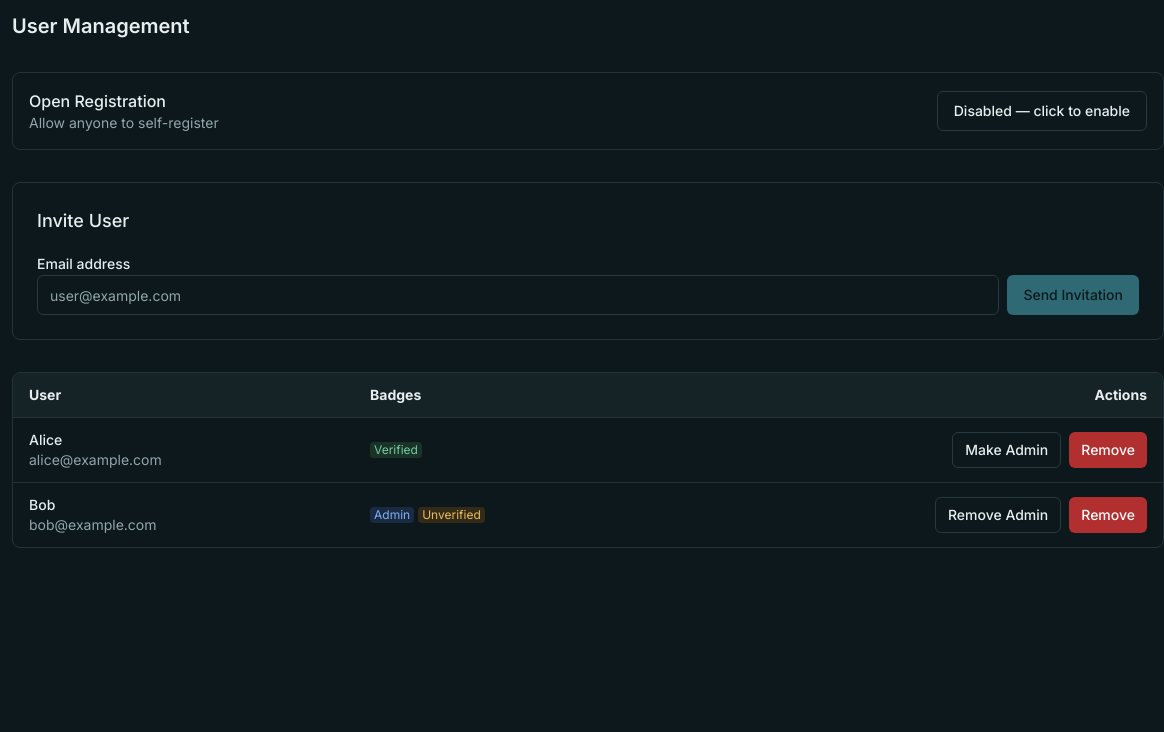
Test: UsersClient — invite user › sends an invitation and shows a success message
Expected: the text "Alice" is shown, x1=29 y1=431 x2=62 y2=448
Type "new@example.com" into the field labelled "Email address" at {"x": 518, "y": 295}, box x1=37 y1=275 x2=999 y2=315
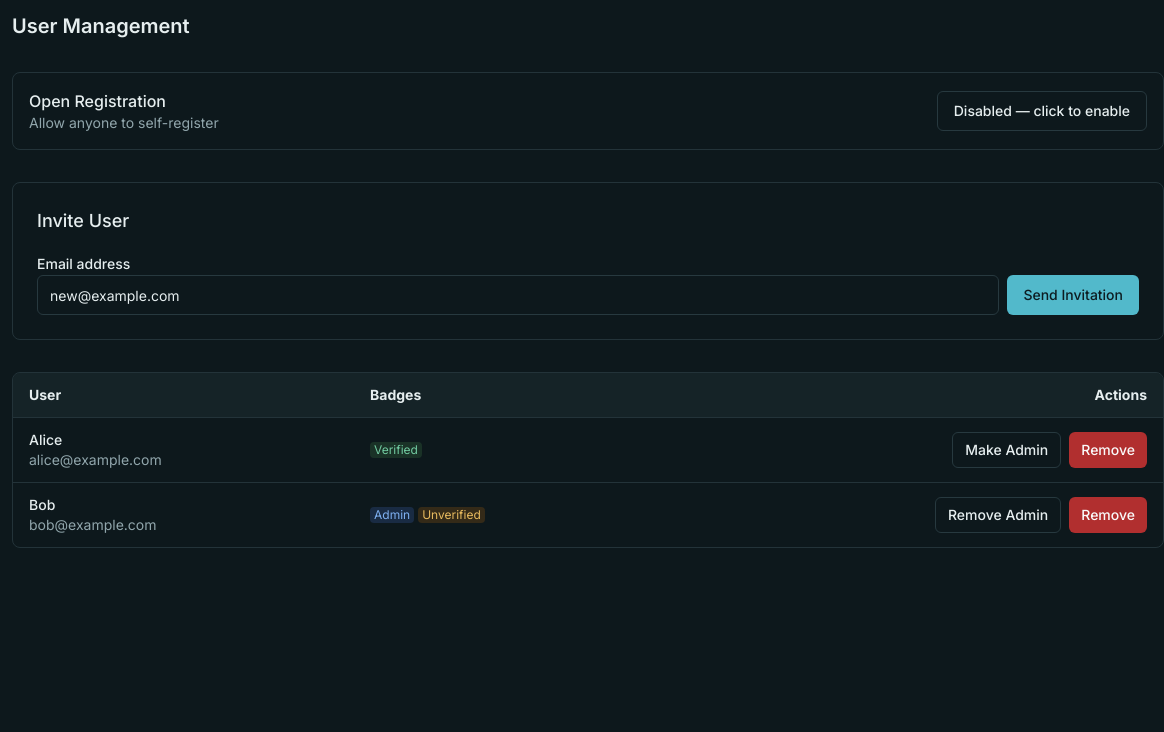
Click the button "Send Invitation" at {"x": 1073, "y": 295}, box x1=1007 y1=275 x2=1139 y2=315
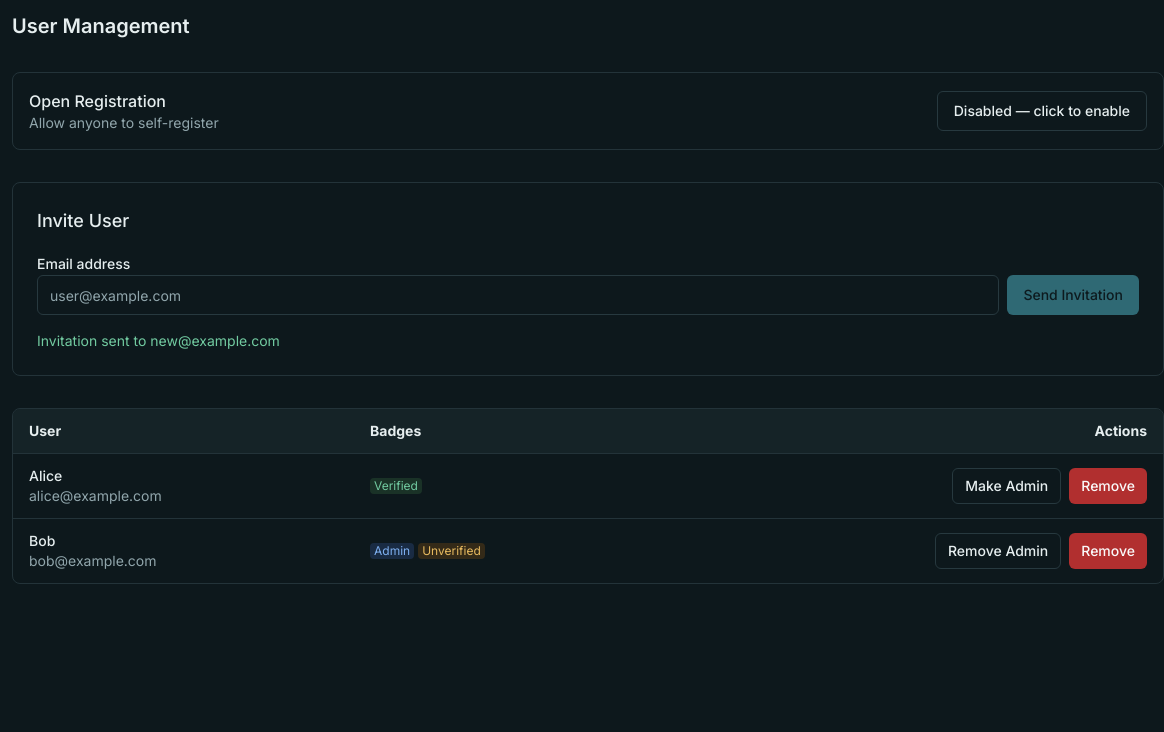
Result: the message reads "Invitation sent to new@example.com" at x1=37 y1=332 x2=280 y2=349
